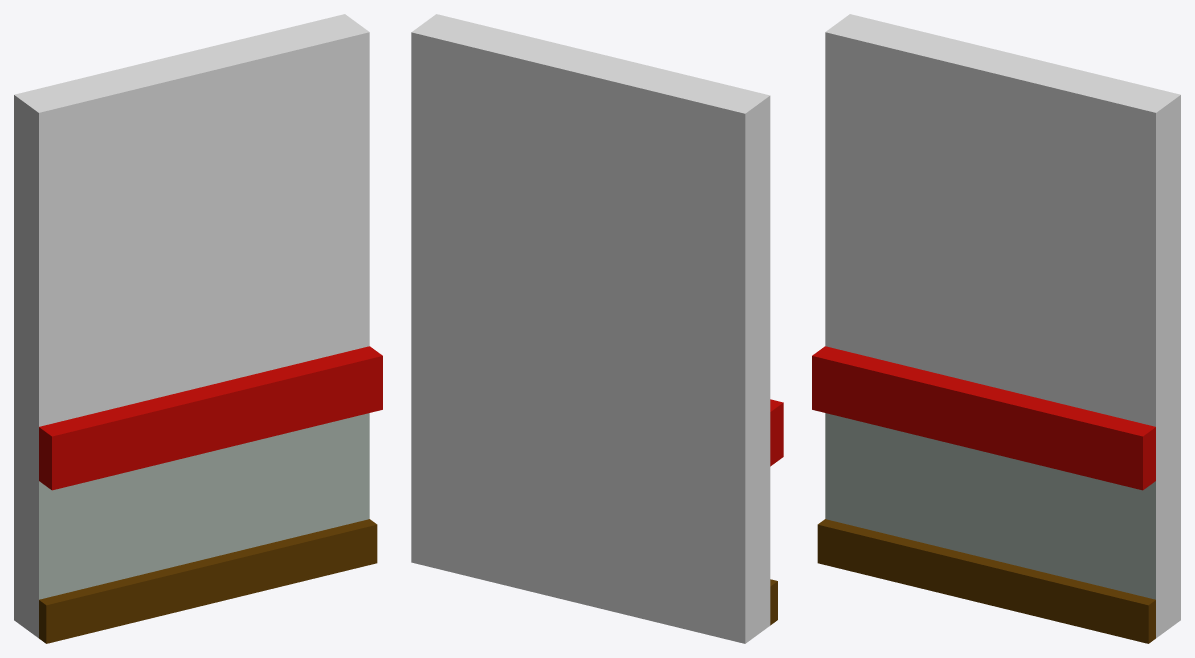
The model's file is H_Wall_Small_Reception.fbx.
3 renders of one model, left to right at view 1: azimuth 30°, elevation 25°; view 2: azimuth 150°, elevation 25°; view 3: azimuth 330°, elevation 25°, orthographic.
Parts seen in each view (by area): view 1: H_Wall_Small_Reception; view 2: H_Wall_Small_Reception; view 3: H_Wall_Small_Reception.
Part boxes in pixels (x1,y1,x2,y2): H_Wall_Small_Reception: (14,14,382,643); H_Wall_Small_Reception: (411,14,783,643); H_Wall_Small_Reception: (812,14,1180,643).
Bounding box in the file's own units: 1000 × 199 × 1517.
